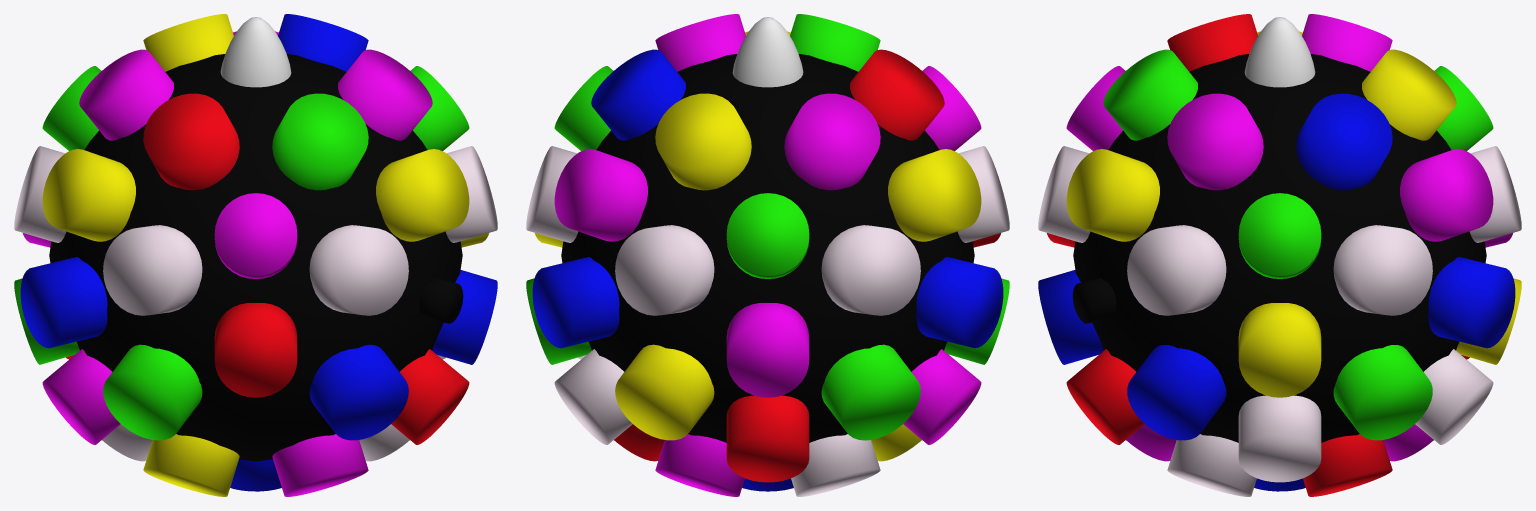
File: party2ForHotAir.fbx
3 views of the same model, side by side, from view 1: azimuth 30°, elevation 25°; view 2: azimuth 150°, elevation 25°; view 3: azimuth 270°, elevation 25° (orthographic).
Parts seen in each view (by area): view 1: Sphere, Cylinder.017, Cylinder.042, Cylinder.032, Cylinder.009, Cylinder.018, Cylinder.043, Cylinder.120, Cylinder.020, Cylinder.058, Cylinder.060, Cylinder.118 (+19 smaller); view 2: Sphere, Cylinder.029, Cylinder.040, Cylinder.030, Cylinder.041, Cylinder.028, Cylinder.039, Cylinder.012, Cylinder.058, Cylinder.128, Cylinder.014, Cylinder.060 (+19 smaller); view 3: Sphere, Cylinder.034, Cylinder.048, Cylinder.033, Cylinder.049, Cylinder.035, Cylinder.047, Cylinder.081, Cylinder.020, Cylinder.128, Cylinder.083, Cylinder.130 (+19 smaller).
Boxes of the visible parts, x1,y1,x2,y2 form: Sphere: (49, 54, 462, 461); Cylinder.017: (309, 225, 408, 315); Cylinder.042: (103, 225, 202, 315); Cylinder.032: (143, 93, 239, 190); Cylinder.009: (272, 93, 368, 190); Cylinder.018: (309, 344, 408, 440); Cylinder.043: (103, 344, 202, 440); Cylinder.120: (214, 303, 297, 397); Cylinder.020: (376, 149, 469, 241); Cylinder.058: (42, 149, 135, 241); Cylinder.060: (20, 257, 107, 348); Cylinder.118: (214, 193, 297, 278); Sphere: (561, 54, 974, 442); Cylinder.029: (615, 225, 714, 315); Cylinder.040: (821, 225, 920, 315); Cylinder.030: (655, 93, 751, 190); Cylinder.041: (784, 93, 880, 190); Cylinder.028: (615, 344, 714, 440); Cylinder.039: (821, 344, 920, 440); Cylinder.012: (726, 303, 809, 397); Cylinder.058: (888, 149, 981, 241); Cylinder.128: (554, 149, 647, 241); Cylinder.014: (726, 395, 809, 482); Cylinder.060: (916, 257, 1003, 348); Sphere: (1073, 54, 1486, 442); Cylinder.034: (1127, 225, 1226, 315); Cylinder.048: (1333, 225, 1432, 315); Cylinder.033: (1167, 93, 1263, 190); Cylinder.049: (1296, 93, 1392, 190); Cylinder.035: (1127, 345, 1226, 440); Cylinder.047: (1333, 345, 1432, 440); Cylinder.081: (1238, 303, 1321, 397); Cylinder.020: (1066, 149, 1159, 241); Cylinder.128: (1400, 149, 1493, 241); Cylinder.083: (1238, 395, 1321, 482); Cylinder.130: (1428, 257, 1515, 348).
Bounding box in the file's own units: 240 × 243 × 234.
